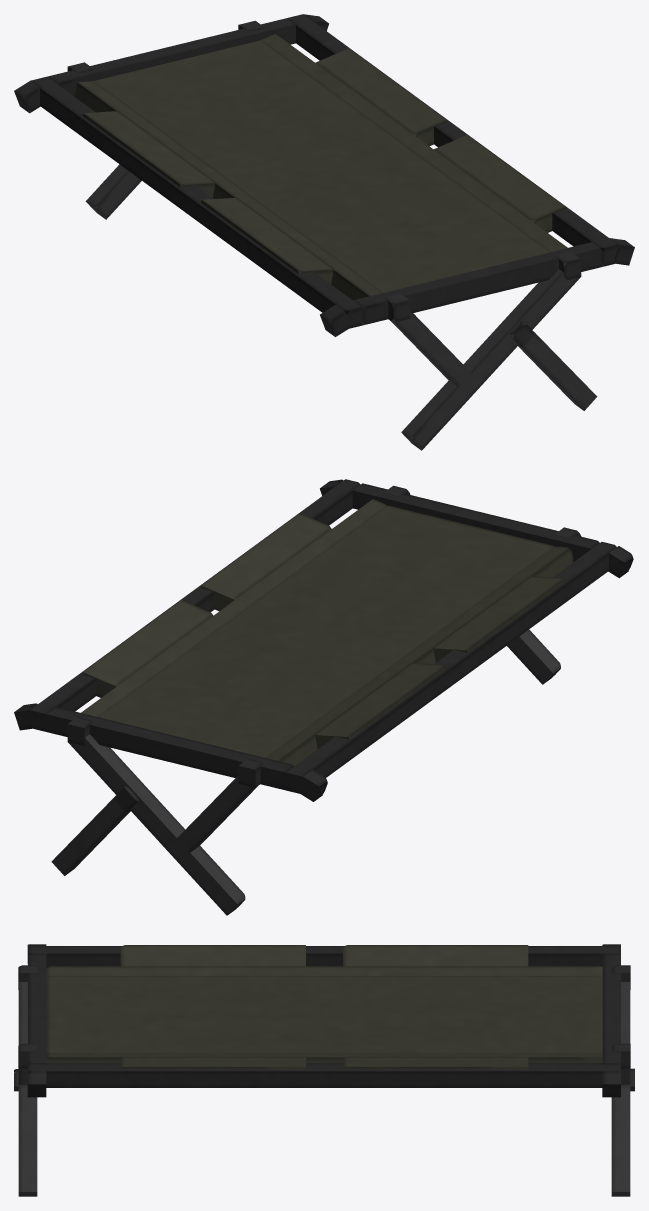
The model's file is stretcher.obj.
The picture shows the model from 3 angles, top to bottom: view 1: azimuth 30°, elevation 25°; view 2: azimuth 150°, elevation 25°; view 3: azimuth 270°, elevation 25°; orthographic projection. The views are drawn at different scales.
Visible parts, largest first — view 1: baseModel0, baseModel1, baseModel10, baseModel4, baseModel22, baseModel21, baseModel26, baseModel25, baseModel3, baseModel2, baseModel24, baseModel23 (+4 smaller); view 2: baseModel0, baseModel1, baseModel3, baseModel18, baseModel22, baseModel21, baseModel26, baseModel25, baseModel2, baseModel4, baseModel24, baseModel23 (+3 smaller); view 3: baseModel0, baseModel2, baseModel21, baseModel1, baseModel23, baseModel24, baseModel22, baseModel25, baseModel26, baseModel19, baseModel11, baseModel3 (+5 smaller).
Boxes of the visible parts, <box> form: baseModel0: <box>93,40,549,292</box>; baseModel1: <box>30,76,362,328</box>; baseModel10: <box>401,262,580,450</box>; baseModel4: <box>353,242,601,325</box>; baseModel22: <box>260,34,567,252</box>; baseModel21: <box>75,81,381,300</box>; baseModel26: <box>434,135,566,232</box>; baseModel25: <box>315,48,447,146</box>; baseModel3: <box>47,18,295,96</box>; baseModel2: <box>286,14,618,266</box>; baseModel24: <box>201,198,333,284</box>; baseModel23: <box>82,111,215,197</box>; baseModel0: <box>99,505,554,758</box>; baseModel1: <box>286,542,616,794</box>; baseModel3: <box>47,707,293,790</box>; baseModel18: <box>68,734,245,915</box>; baseModel22: <box>81,499,386,717</box>; baseModel21: <box>267,546,573,766</box>; baseModel26: <box>201,513,331,611</box>; baseModel25: <box>82,600,213,697</box>; baseModel2: <box>30,479,360,731</box>; baseModel4: <box>352,483,599,561</box>; baseModel24: <box>433,576,565,662</box>; baseModel23: <box>315,663,446,749</box>; baseModel0: <box>46,976,602,1053</box>; baseModel2: <box>28,1063,620,1087</box>; baseModel21: <box>46,966,602,976</box>; baseModel1: <box>28,946,620,968</box>; baseModel23: <box>343,945,528,966</box>; baseModel24: <box>120,945,305,966</box>; baseModel22: <box>46,1053,602,1063</box>; baseModel25: <box>343,1057,528,1069</box>; baseModel26: <box>120,1057,305,1069</box>; baseModel19: <box>611,1084,630,1196</box>; baseModel11: <box>18,1084,37,1196</box>; baseModel3: <box>602,953,620,1063</box>.
Bounding box in the file's own units: 17.88 × 8.71 × 33.5.
